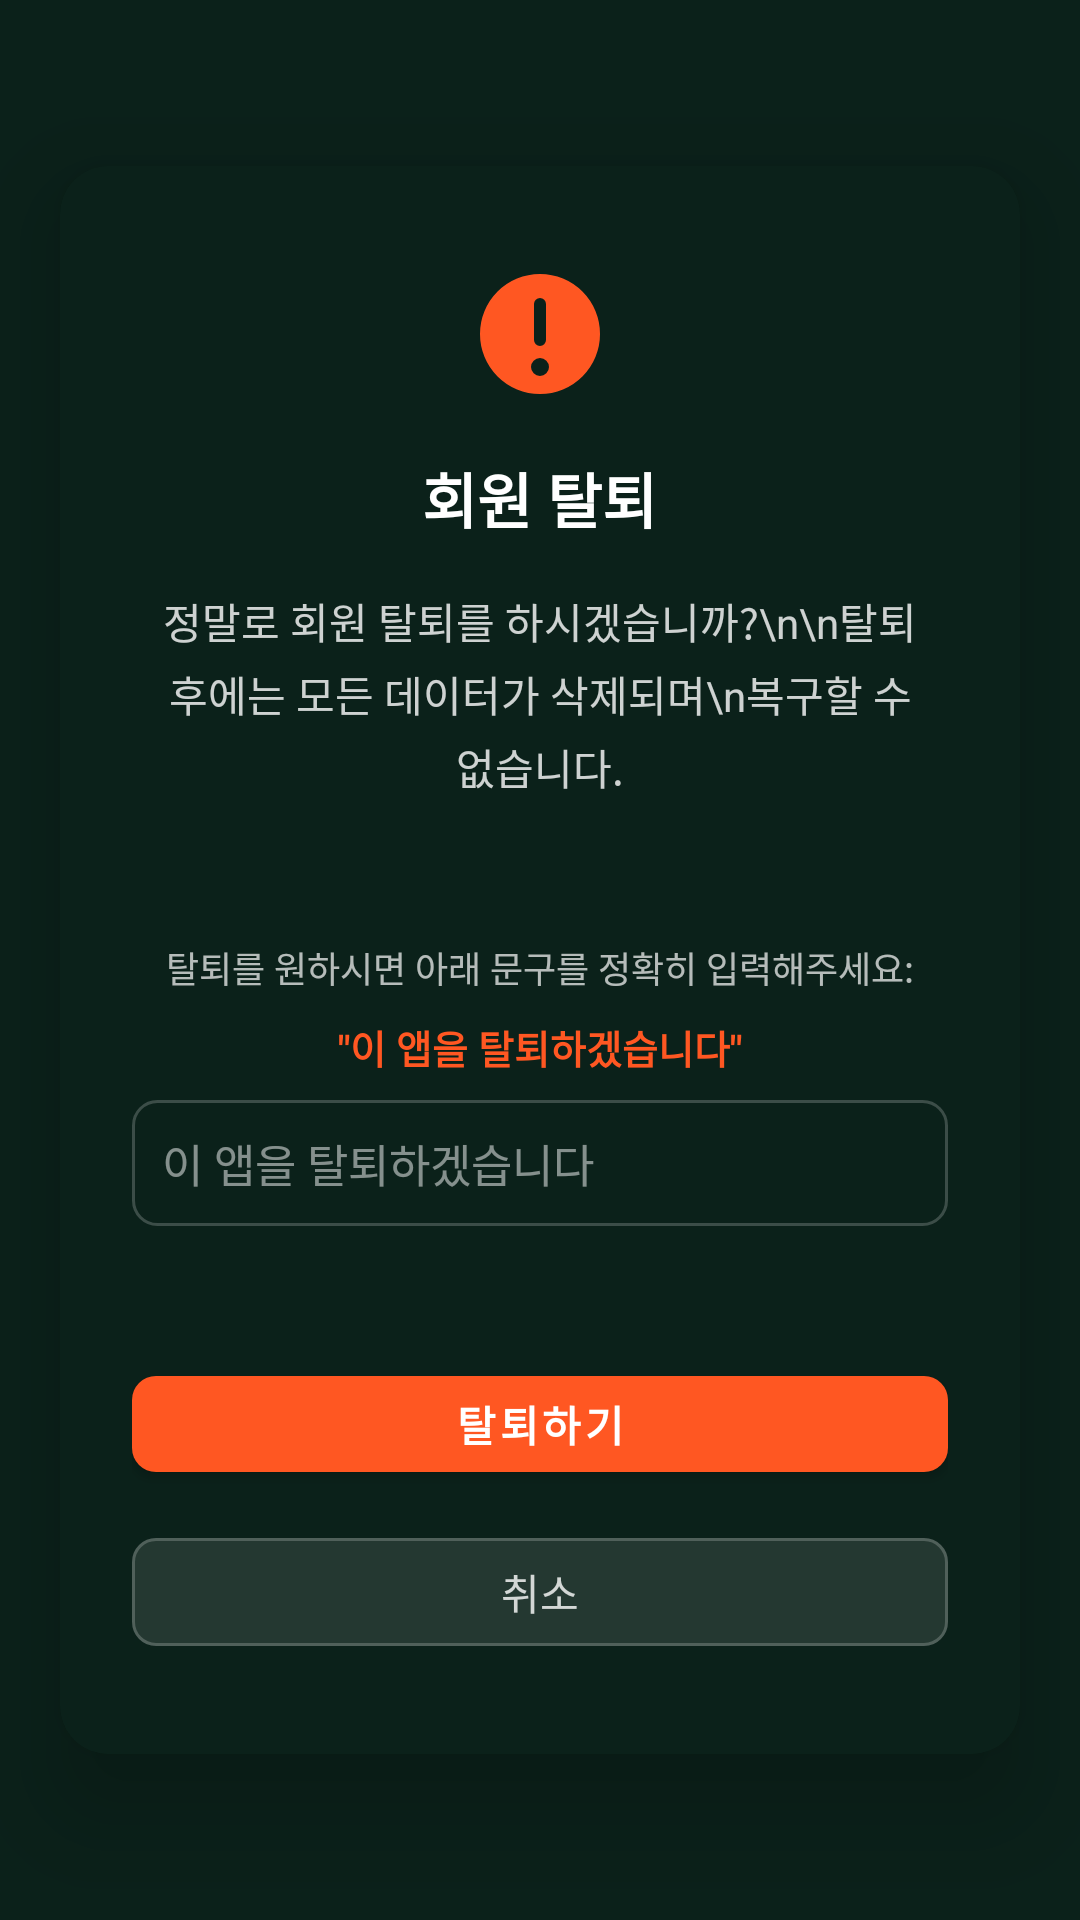

Icon bounding boxes for this 1080px×1920px phone screenshot, format (x1, y1, x2, y2):
error circle: (480, 274, 600, 394)
